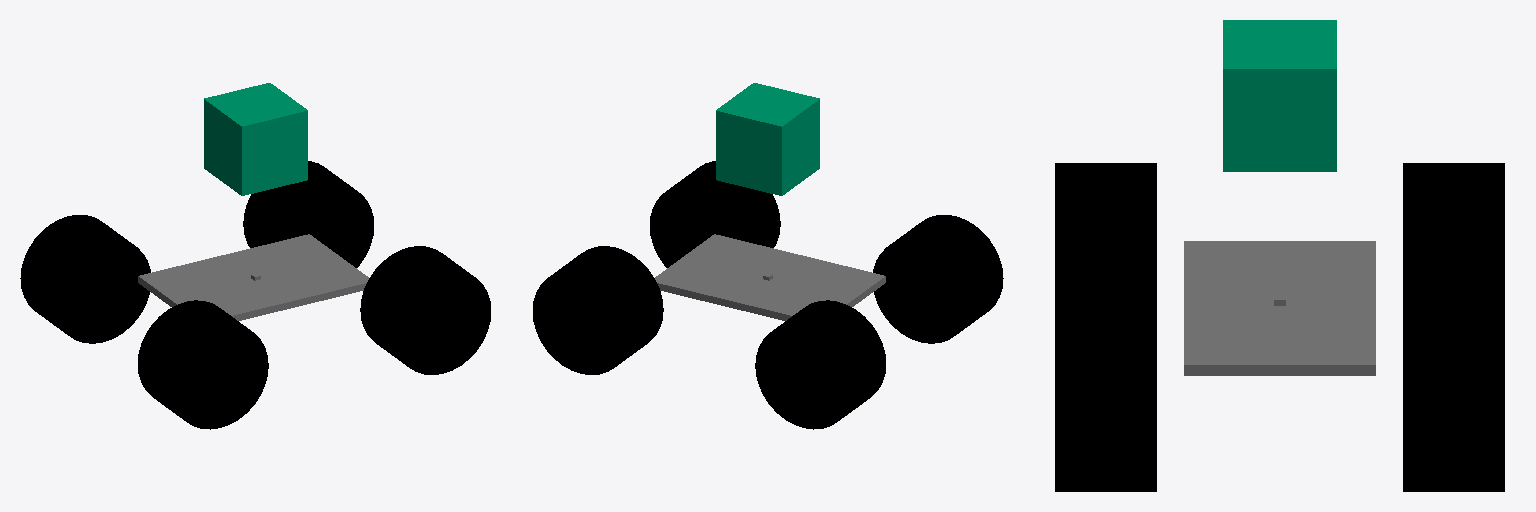
The robot description file, URDF, robot "em_3905":
<?xml version="1.0" ?>
<!-- =================================================================================== -->
<!-- |    This document was autogenerated by xacro from ackerman.urdf                  | -->
<!-- |    EDITING THIS FILE BY HAND IS NOT RECOMMENDED                                 | -->
<!-- =================================================================================== -->
<!-- em_3905.urdf.xacro
This file defines a model of a Traxxas(R) E-Maxx(R) #3905 RC (Radio Controlled)
truck.
Lengths are measured in meters, angles are measured in radians, and masses are
measured in kilograms. All of these values are approximations.
To work with Gazebo, each link must have an inertial element, even if
the link only serves to connect two joints. To be visible in Gazebo, a link
must have a collision element. Furthermore, the link must have a Gazebo
material.
Traxxas(R), E-Maxx(R), and Titan(R) are registered trademarks of Traxxas
Management, LLC. em_3905.urdf.xacro was independently created by Wunderkammer
Laboratory, and neither em_3905.urdf.xacro nor Wunderkammer Laboratory is
affiliated with, sponsored by, approved by, or endorsed by Traxxas Management,
LLC. Mabuchi Motor(R) is a registered trademark of Mabuchi Motor Co., Ltd.
Corporation Japan. All other trademarks and service marks are the property of
their respective owners.
Copyright (c) 2011-2014 Wunderkammer Laboratory
Licensed under the Apache License, Version 2.0 (the "License");
you may not use this file except in compliance with the License.
You may obtain a copy of the License at
  http://www.apache.org/licenses/LICENSE-2.0
Unless required by applicable law or agreed to in writing, software
distributed under the License is distributed on an "AS IS" BASIS,
WITHOUT WARRANTIES OR CONDITIONS OF ANY KIND, either express or implied.
See the License for the specific language governing permissions and
limitations under the License.
-->
<robot name="em_3905" xmlns:xacro="http://www.ros.org/wiki/xacro">
  <material name="battery_mat">
    <color rgba="0 0 1 1"/>
  </material>
  <material name="chassis_mat">
    <color rgba="0.5 0.5 0.5 1"/>
  </material>
  <material name="tire_mat">
    <color rgba="0 0 0 1"/>
  </material>
  <!-- base_link must have geometry so that its axes can be displayed in
       rviz. -->
  <link name="base_link">
    <visual>
      <geometry>
        <box size="0.01 0.01 0.01"/>
      </geometry>
      <material name="chassis_mat"/>
    </visual>
  </link>
  <gazebo reference="base_link">
    <material>Gazebo/Grey</material>
  </gazebo>
  <!-- Chassis -->
  <link name="chassis">
    <visual>
      <origin xyz="0 0 -0.005"/>
      <geometry>
        <box size="0.258 0.168 0.01"/>
      </geometry>
      <material name="chassis_mat"/>
    </visual>
    <collision>
      <origin xyz="0 0 -0.005"/>
      <geometry>
        <box size="0.258 0.168 0.01"/>
      </geometry>
    </collision>
    <inertial>
      <origin xyz="0 0 -0.005"/>
      <mass value="2.788"/>
      <inertia ixx="0.00658060933333" ixy="0" ixz="0" iyy="0.0154882693333" iyz="0" izz="0.022022412"/>
    </inertial>
  </link>
  <gazebo reference="chassis">
    <material>Gazebo/Grey</material>
  </gazebo>
  <joint name="base_link_to_chassis" type="fixed">
    <parent link="base_link"/>
    <child link="chassis"/>
  </joint>
  <!-- Range Laser -->
  <link name="Laser_link">
    <collision>
      <origin rpy="0 0 0" xyz="0 0 0"/>
      <geometry>
        <boz size="0.1 0.1 0.1"/>
      </geometry>
    </collision>
    <visual>
      <origin rpy="0 0 0" xyz="0 0 0"/>
      <geometry>
        <box size="0.1 0.1 0.1"/>
      </geometry>
    </visual>
    <intertial>
      <mass value="1e-5"/>
      <origin rpy="0 0 0" xyz="0 0 0"/>
      <inertia ixx="1e-6" ixy="0" ixz="0" iyy="1e-6" iyz="0" iz="1e-6"/>
    </intertial>
  </link>
  <joint name="laser_joint" type="fixed">
    <axis xyz="0 1 0"/>
    <origin rpy="0 0 0" xyz="0 0 0.2"/>
    <parent link="chassis"/>
    <child link="Laser_link"/>
  </joint>
  <joint name="left_front_shock" type="prismatic">
    <parent link="chassis"/>
    <child link="left_steering_link"/>
    <origin xyz="0.1675                    0.1525                    -0.0235"/>
    <axis xyz="0 0 -1"/>
    <limit effort="12.5106" lower="-0.042" upper="0.042" velocity="1000"/>
  </joint>
  <transmission name="left_front_shock_trans">
    <type>transmission_interface/SimpleTransmission</type>
    <joint name="left_front_shock">
      <hardwareInterface>EffortJointInterface</hardwareInterface>
    </joint>
    <actuator name="left_front_shock_act">
      <!-- This hardwareInterface element exists for compatibility
             with ROS Hydro. -->
      <hardwareInterface>EffortJointInterface</hardwareInterface>
      <mechanicalReduction>1</mechanicalReduction>
    </actuator>
  </transmission>
  <link name="left_steering_link">
    <inertial>
      <mass value="0.001"/>
      <inertia ixx="0.001" ixy="0" ixz="0" iyy="0.001" iyz="0" izz="0.001"/>
    </inertial>
  </link>
  <joint name="left_steering_joint" type="revolute">
    <parent link="left_steering_link"/>
    <child link="left_front_axle_carrier"/>
    <axis xyz="0 0 1"/>
    <limit effort="0.5649" lower="-0.785398163" upper="0.785398163" velocity="4.553"/>
  </joint>
  <transmission name="left_steering_trans">
    <type>transmission_interface/SimpleTransmission</type>
    <joint name="left_steering_joint">
      <hardwareInterface>EffortJointInterface</hardwareInterface>
    </joint>
    <actuator name="left_steering_act">
      <!-- This hardwareInterface element exists for compatibility
             with ROS Hydro. -->
      <hardwareInterface>EffortJointInterface</hardwareInterface>
      <mechanicalReduction>1</mechanicalReduction>
    </actuator>
  </transmission>
  <link name="left_front_axle_carrier">
    <inertial>
      <mass value="0.001"/>
      <inertia ixx="0.001" ixy="0" ixz="0" iyy="0.001" iyz="0" izz="0.001"/>
    </inertial>
  </link>
  <!-- The left and right axles have the same axis so that identical
         rotation values cause the wheels to rotate in the same direction. -->
  <joint name="left_front_axle" type="continuous">
    <parent link="left_front_axle_carrier"/>
    <child link="left_front_wheel"/>
    <origin rpy="1.57079633 0 0"/>
    <axis xyz="0 0 -1"/>
    <limit effort="5.12766" velocity="244.8696"/>
  </joint>
  <transmission name="left_front_axle_trans">
    <type>transmission_interface/SimpleTransmission</type>
    <joint name="left_front_axle">
      <hardwareInterface>EffortJointInterface</hardwareInterface>
    </joint>
    <actuator name="left_front_axle_act">
      <!-- This hardwareInterface element exists for compatibility
             with ROS Hydro. -->
      <hardwareInterface>EffortJointInterface</hardwareInterface>
      <mechanicalReduction>1</mechanicalReduction>
    </actuator>
  </transmission>
  <link name="left_front_wheel">
    <visual>
      <origin xyz="0                      -6.93889390391e-18                      0"/>
      <geometry>
        <cylinder length="0.0889" radius="0.073025"/>
      </geometry>
      <material name="tire_mat"/>
    </visual>
    <collision>
      <origin xyz="0                      -6.93889390391e-18                      0"/>
      <geometry>
        <cylinder length="0.0889" radius="0.073025"/>
      </geometry>
    </collision>
    <inertial>
      <mass value="0.29"/>
      <inertia ixx="0.000746465912979" ixy="0" ixz="0" iyy="0.000746465912979" iyz="0" izz="0.00111094334263"/>
    </inertial>
  </link>
  <gazebo reference="left_front_wheel">
    <material>Gazebo/Black</material>
  </gazebo>
  <joint name="right_front_shock" type="prismatic">
    <parent link="chassis"/>
    <child link="right_steering_link"/>
    <origin xyz="0.1675                    -0.1525                    -0.0235"/>
    <axis xyz="0 0 -1"/>
    <limit effort="12.5106" lower="-0.042" upper="0.042" velocity="1000"/>
  </joint>
  <transmission name="right_front_shock_trans">
    <type>transmission_interface/SimpleTransmission</type>
    <joint name="right_front_shock">
      <hardwareInterface>EffortJointInterface</hardwareInterface>
    </joint>
    <actuator name="right_front_shock_act">
      <!-- This hardwareInterface element exists for compatibility
             with ROS Hydro. -->
      <hardwareInterface>EffortJointInterface</hardwareInterface>
      <mechanicalReduction>1</mechanicalReduction>
    </actuator>
  </transmission>
  <link name="right_steering_link">
    <inertial>
      <mass value="0.001"/>
      <inertia ixx="0.001" ixy="0" ixz="0" iyy="0.001" iyz="0" izz="0.001"/>
    </inertial>
  </link>
  <joint name="right_steering_joint" type="revolute">
    <parent link="right_steering_link"/>
    <child link="right_front_axle_carrier"/>
    <axis xyz="0 0 1"/>
    <limit effort="0.5649" lower="-0.785398163" upper="0.785398163" velocity="4.553"/>
  </joint>
  <transmission name="right_steering_trans">
    <type>transmission_interface/SimpleTransmission</type>
    <joint name="right_steering_joint">
      <hardwareInterface>EffortJointInterface</hardwareInterface>
    </joint>
    <actuator name="right_steering_act">
      <!-- This hardwareInterface element exists for compatibility
             with ROS Hydro. -->
      <hardwareInterface>EffortJointInterface</hardwareInterface>
      <mechanicalReduction>1</mechanicalReduction>
    </actuator>
  </transmission>
  <link name="right_front_axle_carrier">
    <inertial>
      <mass value="0.001"/>
      <inertia ixx="0.001" ixy="0" ixz="0" iyy="0.001" iyz="0" izz="0.001"/>
    </inertial>
  </link>
  <!-- The left and right axles have the same axis so that identical
         rotation values cause the wheels to rotate in the same direction. -->
  <joint name="right_front_axle" type="continuous">
    <parent link="right_front_axle_carrier"/>
    <child link="right_front_wheel"/>
    <origin rpy="1.57079633 0 0"/>
    <axis xyz="0 0 -1"/>
    <limit effort="5.12766" velocity="244.8696"/>
  </joint>
  <transmission name="right_front_axle_trans">
    <type>transmission_interface/SimpleTransmission</type>
    <joint name="right_front_axle">
      <hardwareInterface>EffortJointInterface</hardwareInterface>
    </joint>
    <actuator name="right_front_axle_act">
      <!-- This hardwareInterface element exists for compatibility
             with ROS Hydro. -->
      <hardwareInterface>EffortJointInterface</hardwareInterface>
      <mechanicalReduction>1</mechanicalReduction>
    </actuator>
  </transmission>
  <link name="right_front_wheel">
    <visual>
      <origin xyz="0                      6.93889390391e-18                      0"/>
      <geometry>
        <cylinder length="0.0889" radius="0.073025"/>
      </geometry>
      <material name="tire_mat"/>
    </visual>
    <collision>
      <origin xyz="0                      6.93889390391e-18                      0"/>
      <geometry>
        <cylinder length="0.0889" radius="0.073025"/>
      </geometry>
    </collision>
    <inertial>
      <mass value="0.29"/>
      <inertia ixx="0.000746465912979" ixy="0" ixz="0" iyy="0.000746465912979" iyz="0" izz="0.00111094334263"/>
    </inertial>
  </link>
  <gazebo reference="right_front_wheel">
    <material>Gazebo/Black</material>
  </gazebo>
  <joint name="left_rear_shock" type="prismatic">
    <parent link="chassis"/>
    <child link="left_rear_axle_carrier"/>
    <origin xyz="-0.1675                    0.1525                    -0.0235"/>
    <axis xyz="0 0 -1"/>
    <limit effort="12.5106" lower="-0.042" upper="0.042" velocity="1000"/>
  </joint>
  <transmission name="left_rear_shock_trans">
    <type>transmission_interface/SimpleTransmission</type>
    <joint name="left_rear_shock">
      <hardwareInterface>EffortJointInterface</hardwareInterface>
    </joint>
    <actuator name="left_rear_shock_act">
      <!-- This hardwareInterface element exists for compatibility
             with ROS Hydro. -->
      <hardwareInterface>EffortJointInterface</hardwareInterface>
      <mechanicalReduction>1</mechanicalReduction>
    </actuator>
  </transmission>
  <link name="left_rear_axle_carrier">
    <inertial>
      <mass value="0.001"/>
      <inertia ixx="0.001" ixy="0" ixz="0" iyy="0.001" iyz="0" izz="0.001"/>
    </inertial>
  </link>
  <!-- The left and right axles have the same axis so that identical
         rotation values cause the wheels to rotate in the same direction. -->
  <joint name="left_rear_axle" type="continuous">
    <parent link="left_rear_axle_carrier"/>
    <child link="left_rear_wheel"/>
    <origin rpy="1.57079633 0 0"/>
    <axis xyz="0 0 -1"/>
    <limit effort="5.12766" velocity="244.8696"/>
  </joint>
  <transmission name="left_rear_axle_trans">
    <type>transmission_interface/SimpleTransmission</type>
    <joint name="left_rear_axle">
      <hardwareInterface>EffortJointInterface</hardwareInterface>
    </joint>
    <actuator name="left_rear_axle_act">
      <!-- This hardwareInterface element exists for compatibility
             with ROS Hydro. -->
      <hardwareInterface>EffortJointInterface</hardwareInterface>
      <mechanicalReduction>1</mechanicalReduction>
    </actuator>
  </transmission>
  <link name="left_rear_wheel">
    <visual>
      <origin xyz="0                      -6.93889390391e-18                      0"/>
      <geometry>
        <cylinder length="0.0889" radius="0.073025"/>
      </geometry>
      <material name="tire_mat"/>
    </visual>
    <collision>
      <origin xyz="0                      -6.93889390391e-18                      0"/>
      <geometry>
        <cylinder length="0.0889" radius="0.073025"/>
      </geometry>
    </collision>
    <inertial>
      <mass value="0.29"/>
      <inertia ixx="0.000746465912979" ixy="0" ixz="0" iyy="0.000746465912979" iyz="0" izz="0.00111094334263"/>
    </inertial>
  </link>
  <gazebo reference="left_rear_wheel">
    <material>Gazebo/Black</material>
  </gazebo>
  <joint name="right_rear_shock" type="prismatic">
    <parent link="chassis"/>
    <child link="right_rear_axle_carrier"/>
    <origin xyz="-0.1675                    -0.1525                    -0.0235"/>
    <axis xyz="0 0 -1"/>
    <limit effort="12.5106" lower="-0.042" upper="0.042" velocity="1000"/>
  </joint>
  <transmission name="right_rear_shock_trans">
    <type>transmission_interface/SimpleTransmission</type>
    <joint name="right_rear_shock">
      <hardwareInterface>EffortJointInterface</hardwareInterface>
    </joint>
    <actuator name="right_rear_shock_act">
      <!-- This hardwareInterface element exists for compatibility
             with ROS Hydro. -->
      <hardwareInterface>EffortJointInterface</hardwareInterface>
      <mechanicalReduction>1</mechanicalReduction>
    </actuator>
  </transmission>
  <link name="right_rear_axle_carrier">
    <inertial>
      <mass value="0.001"/>
      <inertia ixx="0.001" ixy="0" ixz="0" iyy="0.001" iyz="0" izz="0.001"/>
    </inertial>
  </link>
  <!-- The left and right axles have the same axis so that identical
         rotation values cause the wheels to rotate in the same direction. -->
  <joint name="right_rear_axle" type="continuous">
    <parent link="right_rear_axle_carrier"/>
    <child link="right_rear_wheel"/>
    <origin rpy="1.57079633 0 0"/>
    <axis xyz="0 0 -1"/>
    <limit effort="5.12766" velocity="244.8696"/>
  </joint>
  <transmission name="right_rear_axle_trans">
    <type>transmission_interface/SimpleTransmission</type>
    <joint name="right_rear_axle">
      <hardwareInterface>EffortJointInterface</hardwareInterface>
    </joint>
    <actuator name="right_rear_axle_act">
      <!-- This hardwareInterface element exists for compatibility
             with ROS Hydro. -->
      <hardwareInterface>EffortJointInterface</hardwareInterface>
      <mechanicalReduction>1</mechanicalReduction>
    </actuator>
  </transmission>
  <link name="right_rear_wheel">
    <visual>
      <origin xyz="0                      6.93889390391e-18                      0"/>
      <geometry>
        <cylinder length="0.0889" radius="0.073025"/>
      </geometry>
      <material name="tire_mat"/>
    </visual>
    <collision>
      <origin xyz="0                      6.93889390391e-18                      0"/>
      <geometry>
        <cylinder length="0.0889" radius="0.073025"/>
      </geometry>
    </collision>
    <inertial>
      <mass value="0.29"/>
      <inertia ixx="0.000746465912979" ixy="0" ixz="0" iyy="0.000746465912979" iyz="0" izz="0.00111094334263"/>
    </inertial>
  </link>
  <gazebo reference="right_rear_wheel">
    <material>Gazebo/Black</material>
  </gazebo>
  <gazebo>
    <plugin filename="libgazebo_ros_control.so" name="gazebo_ros_control"/>
    <plugin filename="libgazebo_ros_joint_state_publisher.so" name="joint_state_publisher">
      <jointName>left_front_shock, left_steering_joint, left_front_axle, right_front_shock, right_steering_joint,
  right_front_axle, left_rear_shock, left_rear_axle, right_rear_shock, right_rear_axle</jointName>
    </plugin>
  </gazebo>
</robot>

--- Render facts (derived) ---
Views: 3 orthographic renders of the robot side by side, from view 1: azimuth 30°, elevation 25°; view 2: azimuth 150°, elevation 25°; view 3: azimuth 270°, elevation 25°.
Robot: em_3905 — 13 links, 12 joints (2 revolute, 4 continuous, 4 prismatic, 2 fixed); root link base_link; default pose: all joints at 0.
Visible links, largest first — view 1: right_front_wheel, right_rear_wheel, left_rear_wheel, chassis, Laser_link, left_front_wheel; view 2: left_front_wheel, left_rear_wheel, right_rear_wheel, chassis, Laser_link, right_front_wheel; view 3: chassis, Laser_link, left_front_wheel, right_front_wheel, left_rear_wheel, right_rear_wheel.
Link boxes in pixels (left/top/right/bottom): right_front_wheel: left=360, top=246, right=490, bottom=374; right_rear_wheel: left=138, top=300, right=268, bottom=429; left_rear_wheel: left=20, top=215, right=150, bottom=343; chassis: left=138, top=234, right=368, bottom=320; Laser_link: left=204, top=83, right=307, bottom=195; left_front_wheel: left=243, top=161, right=373, bottom=267; left_front_wheel: left=533, top=246, right=663, bottom=374; left_rear_wheel: left=755, top=300, right=885, bottom=429; right_rear_wheel: left=873, top=215, right=1003, bottom=343; chassis: left=655, top=234, right=885, bottom=320; Laser_link: left=716, top=83, right=819, bottom=195; right_front_wheel: left=650, top=161, right=780, bottom=267; chassis: left=1184, top=241, right=1375, bottom=375; Laser_link: left=1223, top=20, right=1336, bottom=171; left_front_wheel: left=1403, top=325, right=1504, bottom=491; right_front_wheel: left=1055, top=325, right=1156, bottom=491; left_rear_wheel: left=1403, top=163, right=1504, bottom=324; right_rear_wheel: left=1055, top=163, right=1156, bottom=324.
Size in the robot's own frame: 0.4811 by 0.3939 by 0.3465 metres.
Geometry: primitives only (box / cylinder / sphere), no mesh files.